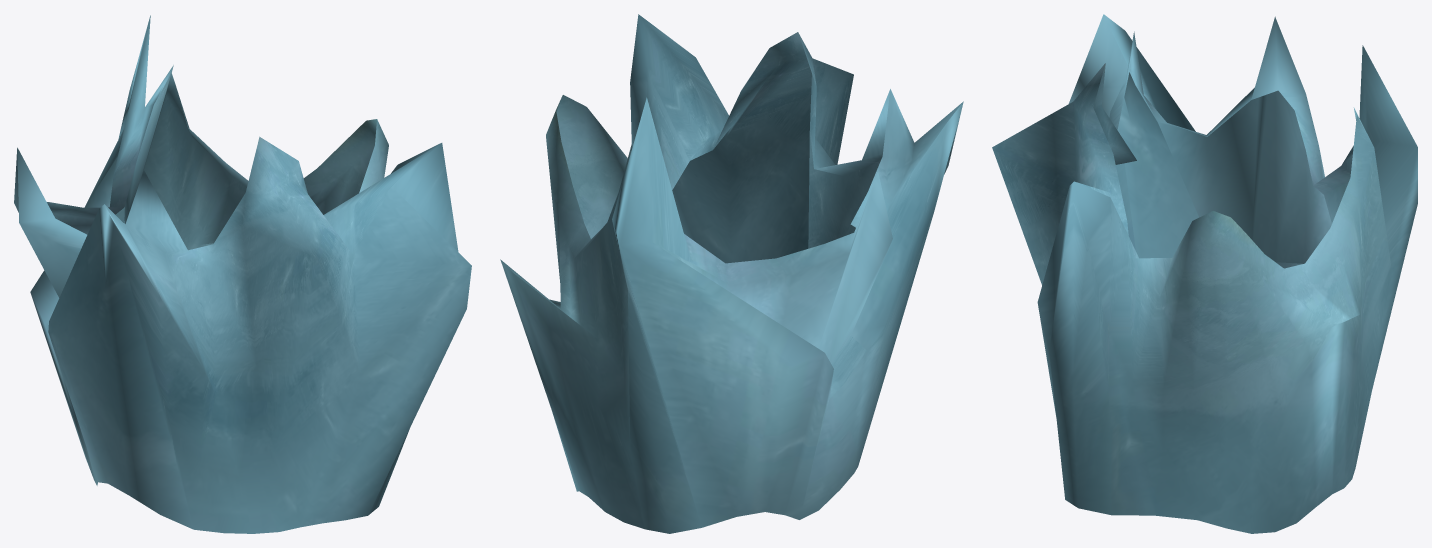
The model's file is icefreeze.fbx.
3 views of the same model, side by side, from view 1: azimuth 30°, elevation 25°; view 2: azimuth 150°, elevation 25°; view 3: azimuth 270°, elevation 25° (orthographic). The views are drawn at different scales.
Visible parts, largest first — view 1: Cylinder; view 2: Cylinder; view 3: Cylinder.
Boxes of the visible parts, left/top/right/bottom form: Cylinder: left=14, top=15, right=471, bottom=533; Cylinder: left=500, top=14, right=963, bottom=533; Cylinder: left=992, top=14, right=1417, bottom=533.
Bounding box in the file's own units: 310 × 365 × 325.
